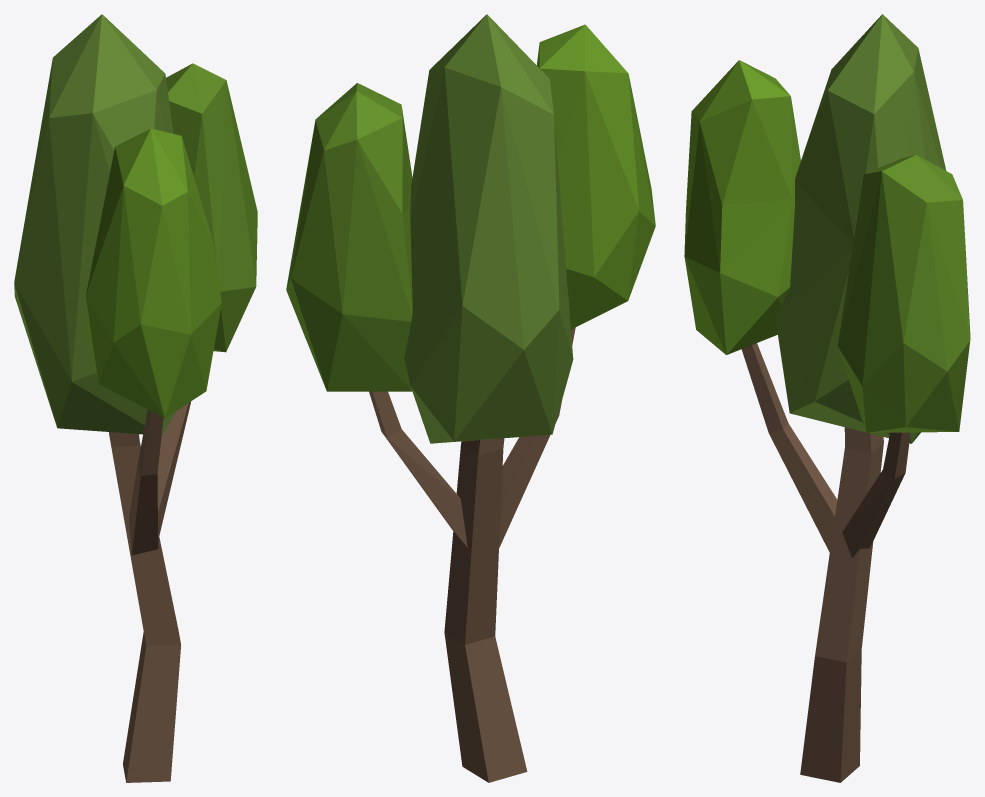
Rendered from tree_10.fbx.
3 renders of one model, left to right at view 1: azimuth 30°, elevation 25°; view 2: azimuth 150°, elevation 25°; view 3: azimuth 270°, elevation 25°, orthographic. The views are drawn at different scales.
Visible parts, largest first — view 1: tree_10; view 2: tree_10; view 3: tree_10.
Part boxes in pixels (left/top/right/bottom): tree_10: left=14, top=14, right=257, bottom=782; tree_10: left=286, top=14, right=655, bottom=782; tree_10: left=684, top=14, right=970, bottom=782.
Bounding box in the file's own units: 308 × 889 × 308.
